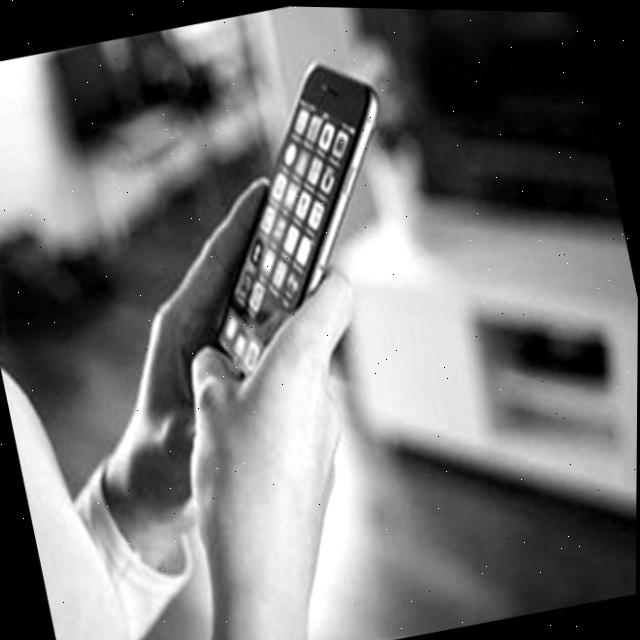phone: (155, 37, 433, 394)
